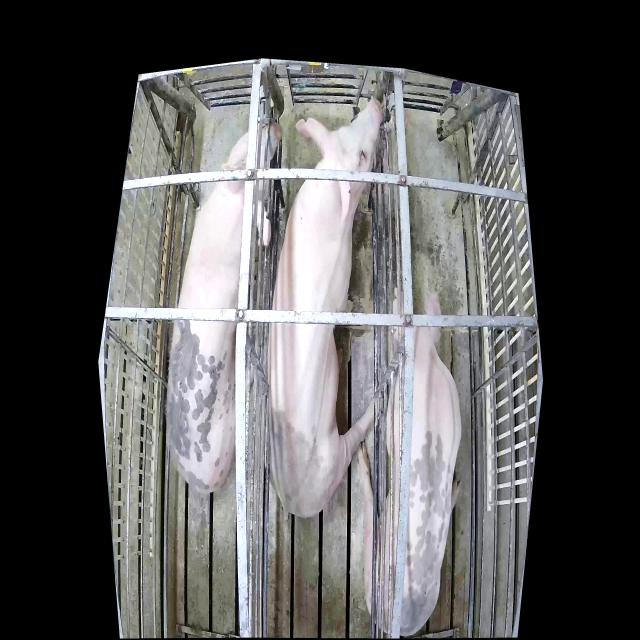pig: (267, 97, 385, 519), (165, 120, 283, 494), (359, 289, 462, 638)
